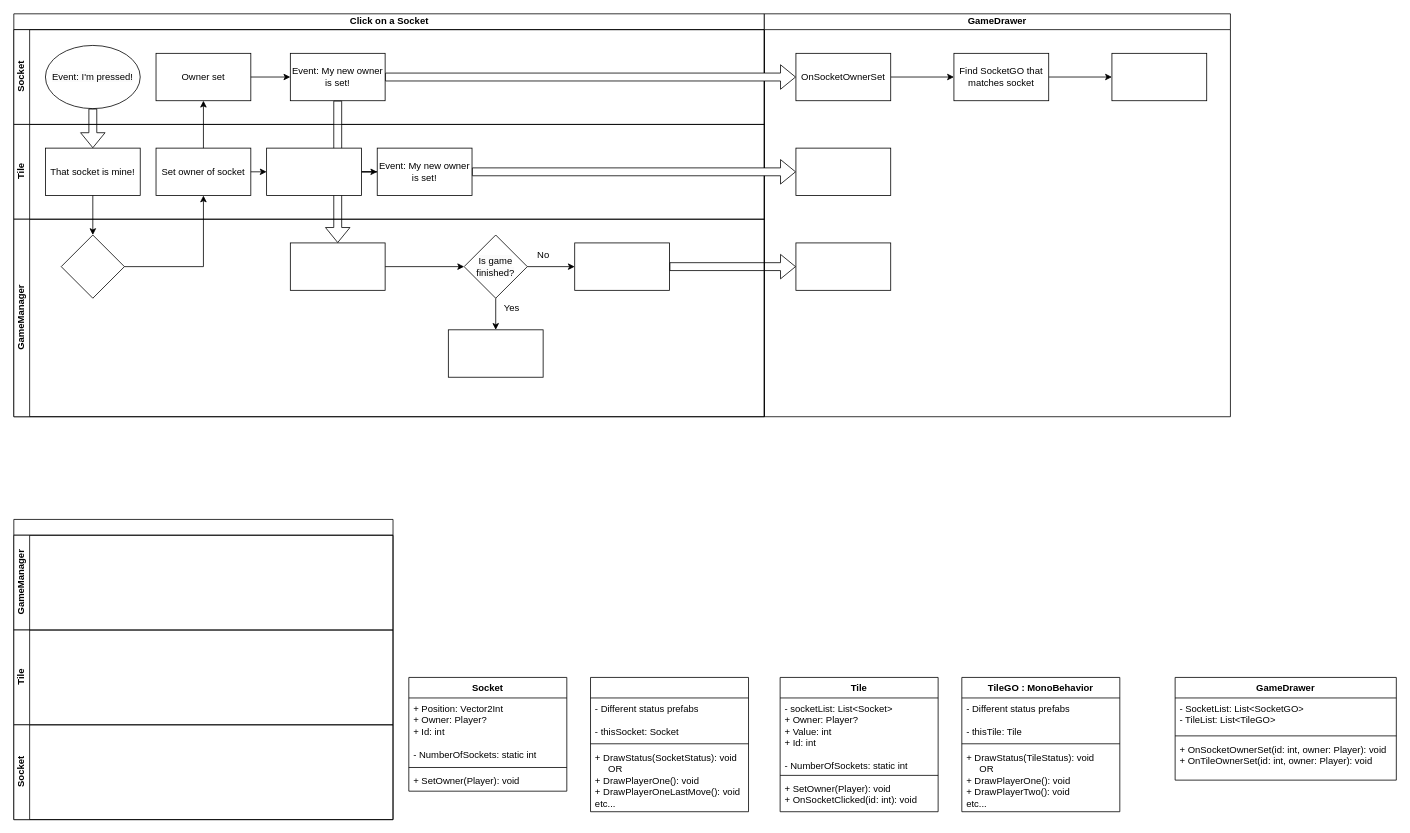
This 1410x833 diagram has some shape labels left out. Each missing label, with the box of its shape:
Compute current owner of tile: (266, 147, 361, 196)
Create Board: (13, 519, 393, 820)
Current player?: (60, 234, 124, 298)
Declare winner: (448, 329, 543, 377)
Draw new owner on SocketGO: (1111, 53, 1207, 101)
Draw owner of tile: (795, 147, 891, 196)
Draw possible moves: (795, 242, 891, 290)
Event: These are the next possible moves: (574, 242, 670, 290)
SocketGO : MonoBehavior: (590, 677, 749, 812)
Turn is over. Prepare for next turn: (290, 242, 385, 290)
